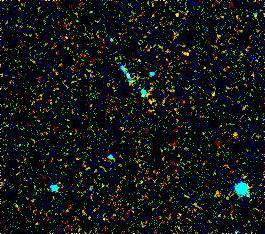star: (220, 122, 250, 152)
